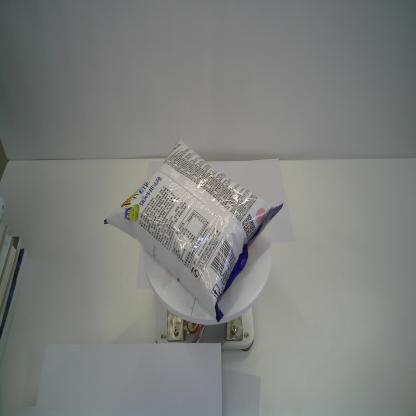Puffed Food: (102, 138, 286, 324)
